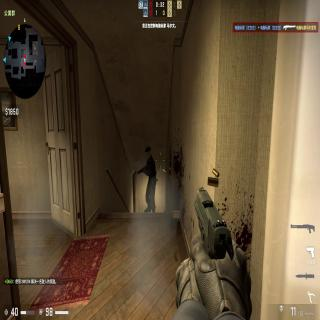T-Head: (145, 146, 151, 159)
